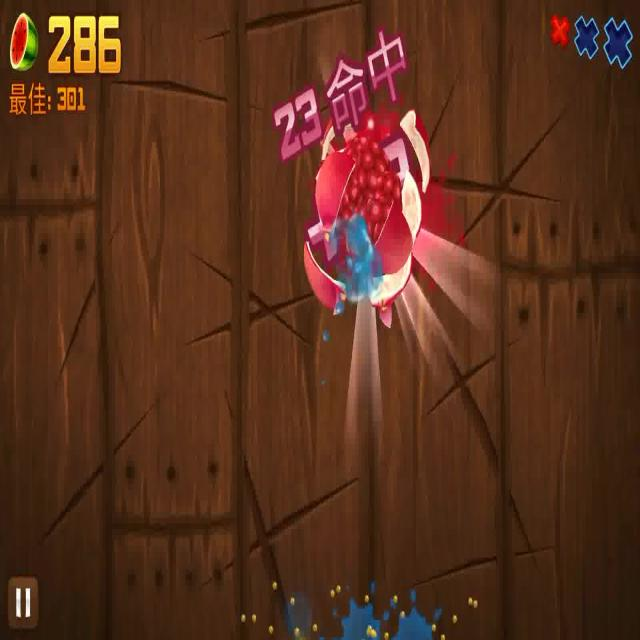fruit: (292, 112, 436, 300)
